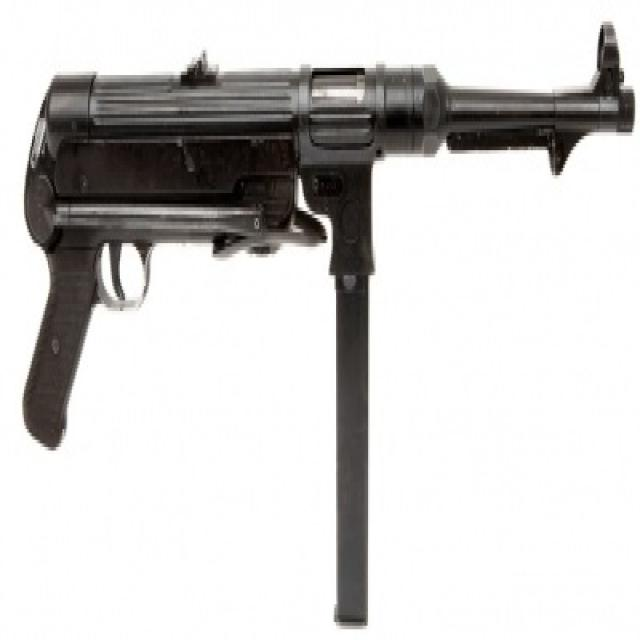rifle: (16, 26, 640, 640)
